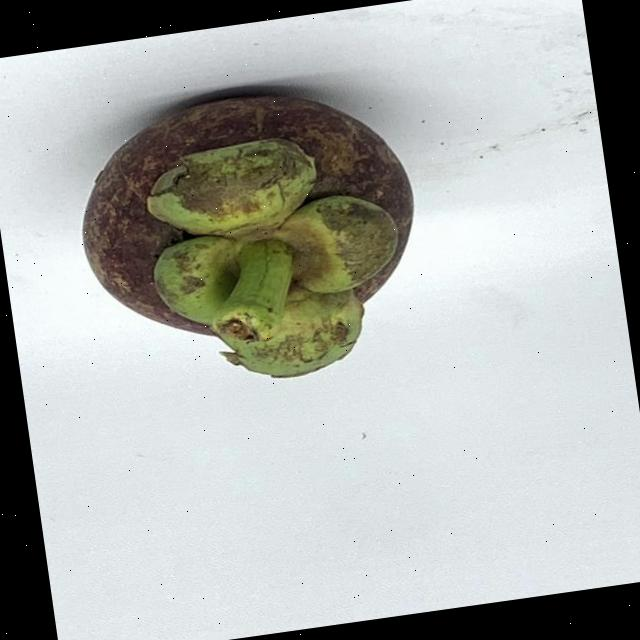mangosteen: (61, 68, 455, 412)
